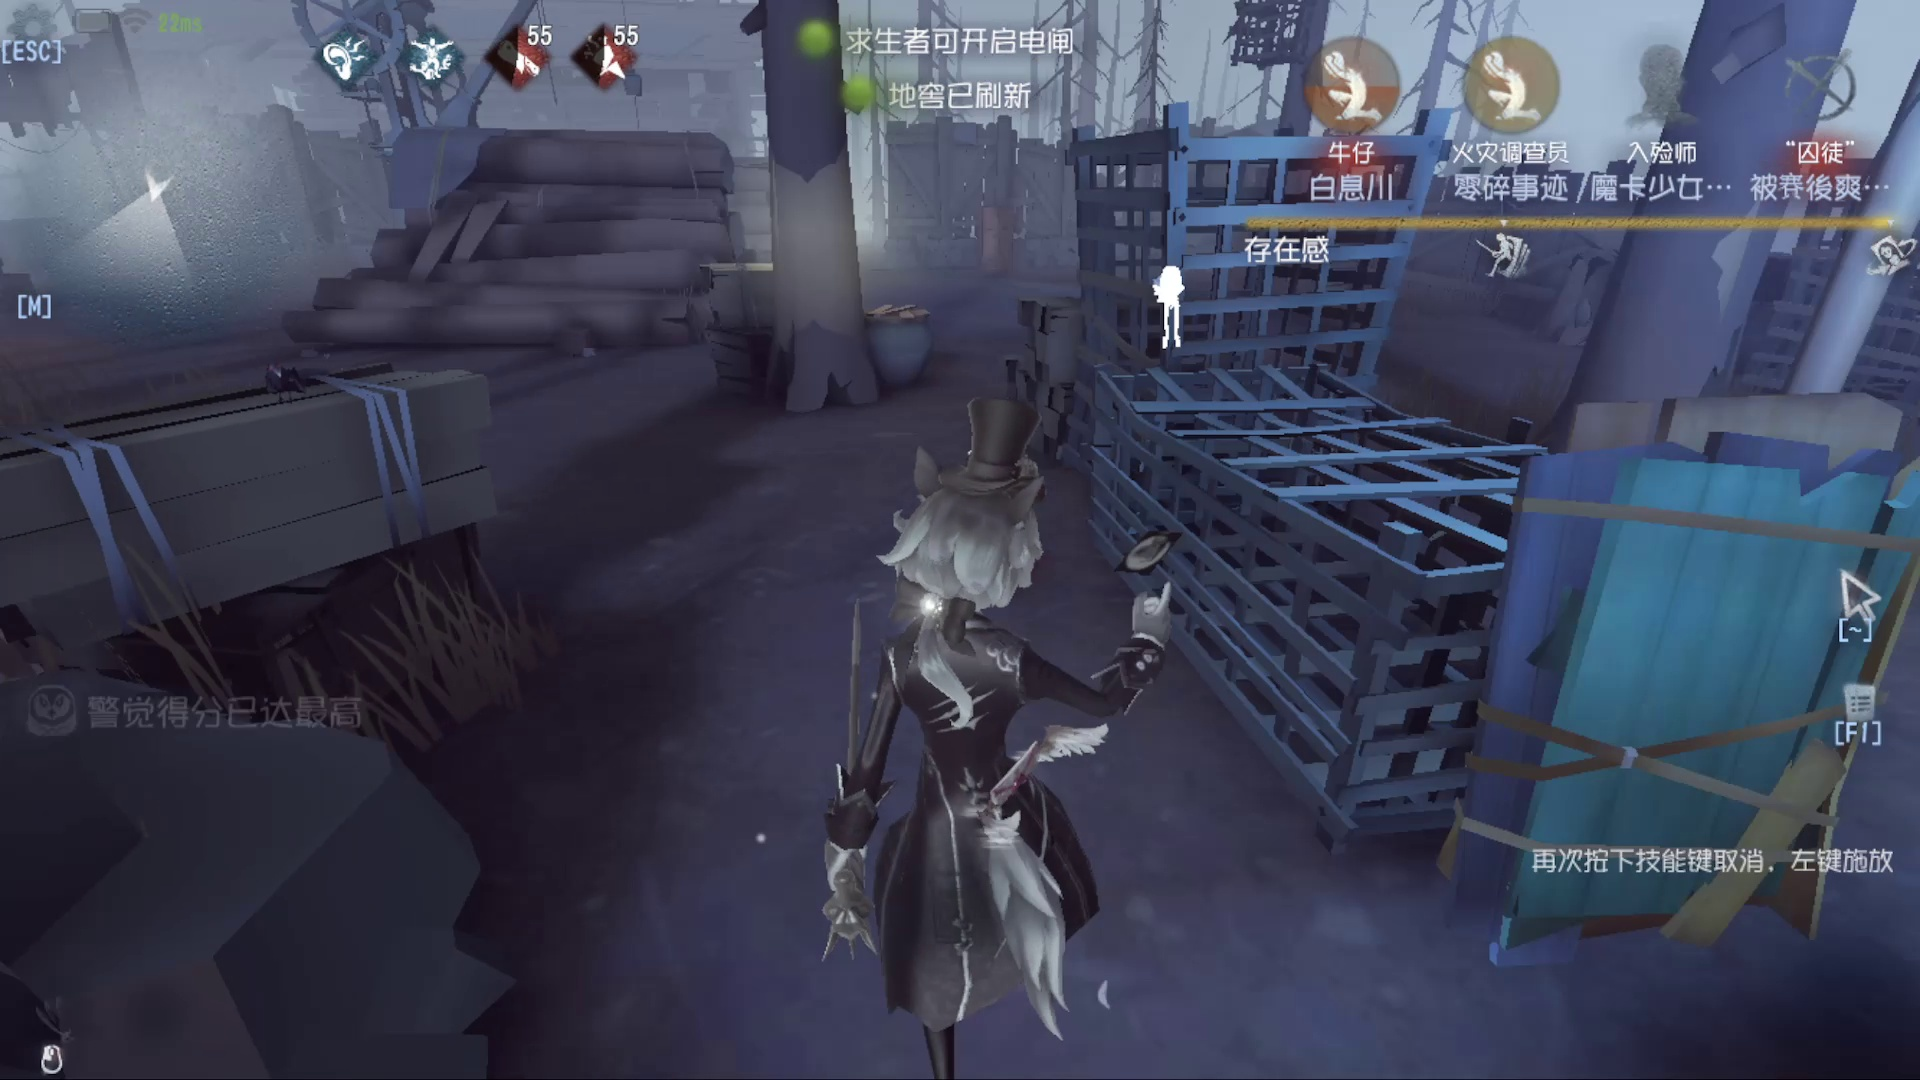木板: (1473, 372, 1888, 952)
